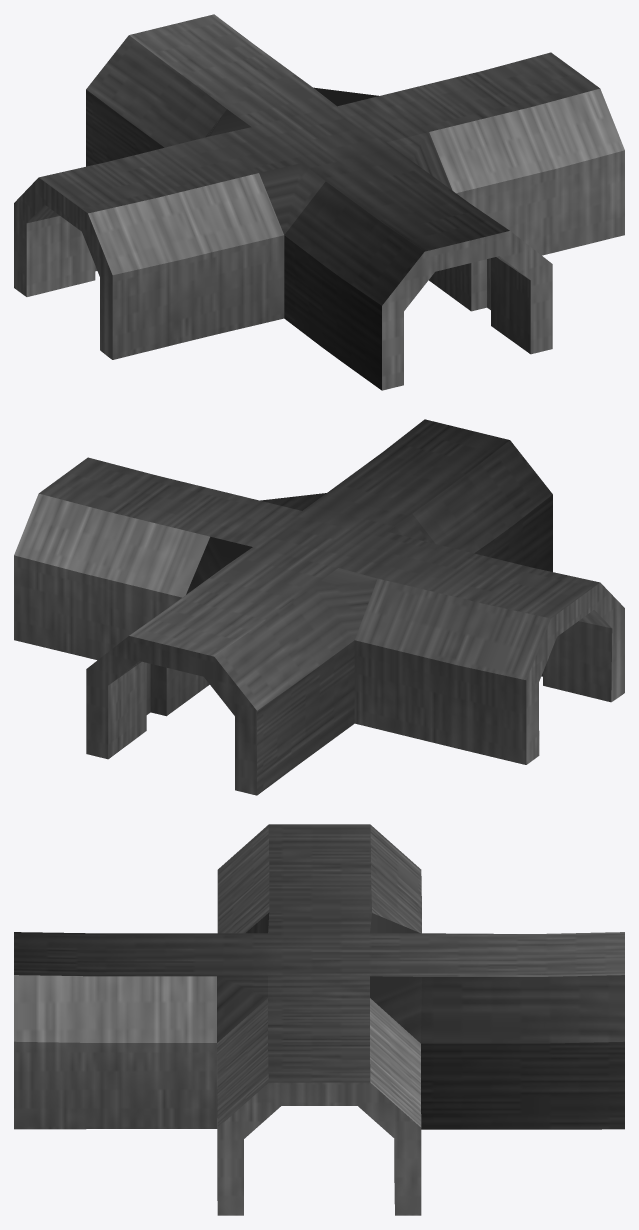
The model's file is Hallway_Cross_Piece.fbx.
3 views of the same model, one above another, from view 1: azimuth 30°, elevation 25°; view 2: azimuth 150°, elevation 25°; view 3: azimuth 270°, elevation 25° (orthographic). The views are drawn at different scales.
Visible parts, largest first — view 1: HallwayCrossSection; view 2: HallwayCrossSection; view 3: HallwayCrossSection.
Boxes of the visible parts, box(x1,y1,x2,y2) form: HallwayCrossSection: box(14, 14, 624, 390); HallwayCrossSection: box(14, 419, 624, 795); HallwayCrossSection: box(14, 824, 624, 1215).
Size of the model in its own units: 12 by 2.88 by 12.
1 material, 1 textured.
